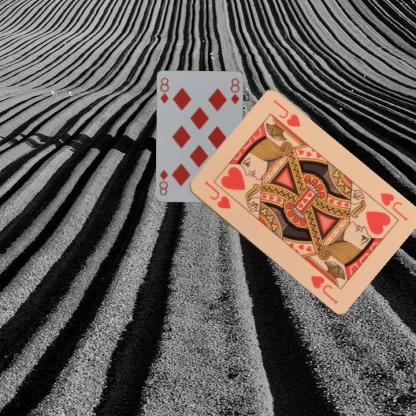8d: (158, 75, 170, 105)
Jh: (377, 190, 409, 223), (201, 178, 232, 210)
